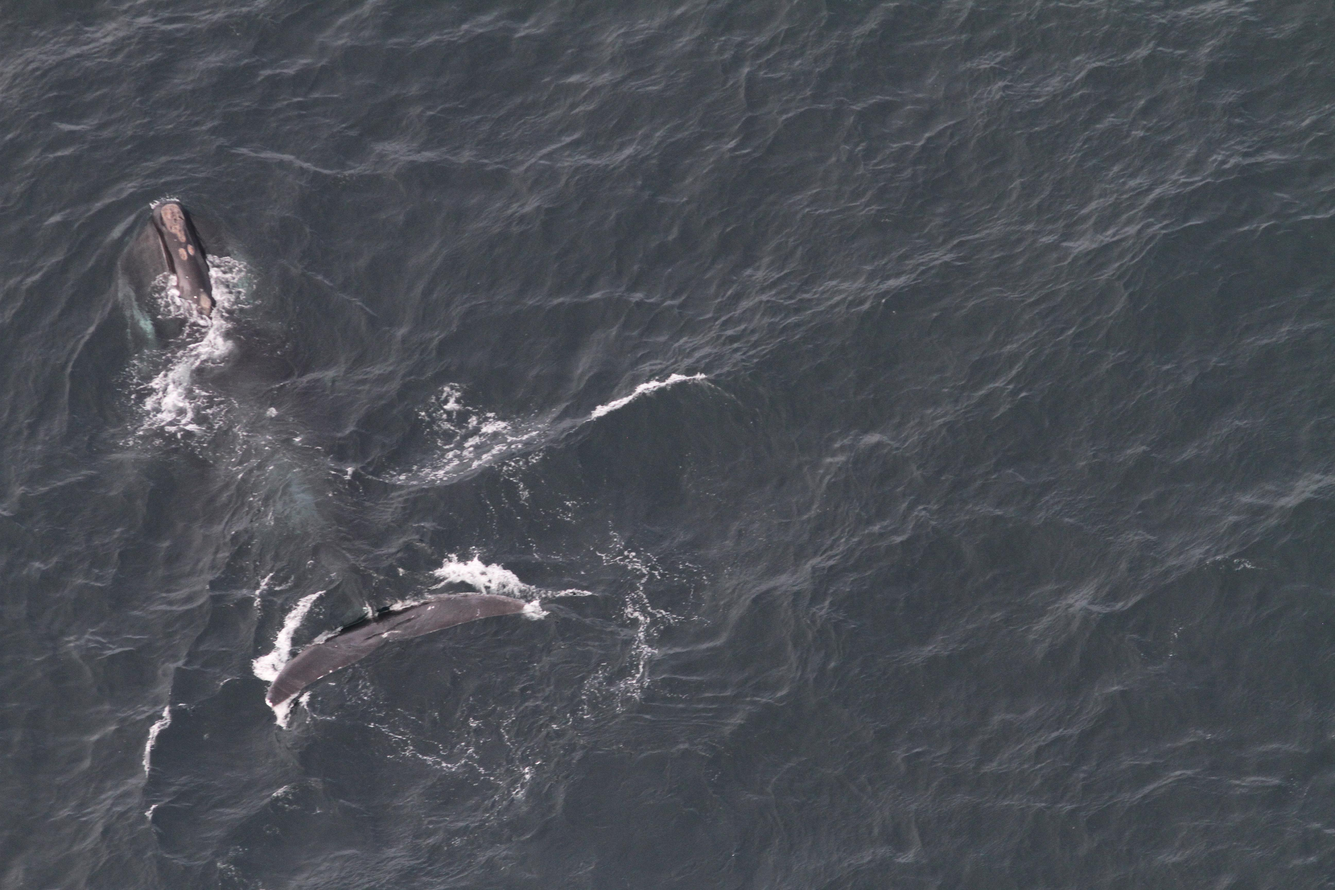whale: (116, 182, 546, 716)
